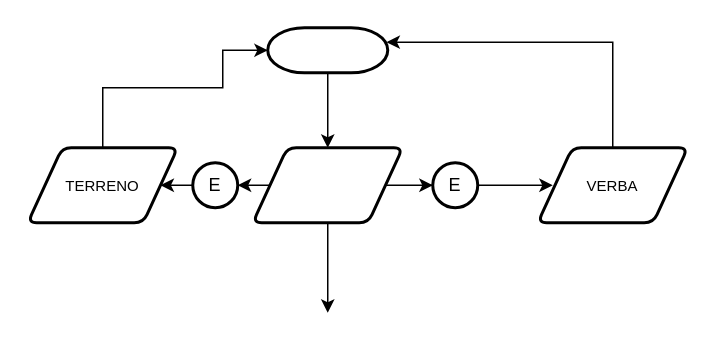
This 714x351 diagram has some shape labels left out. The centre of each missing label's shape, as x and y in pixels:
"INICIO" goes at (x=327, y=50).
"PROJETO APROVADO" goes at (x=327, y=185).
